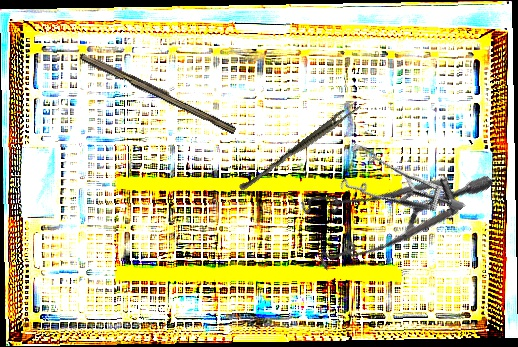Scalpel Handle: (78, 50, 239, 135)
Speculum: (280, 96, 494, 309), (325, 113, 466, 260)
Tissue Forceps: (238, 98, 362, 196)
